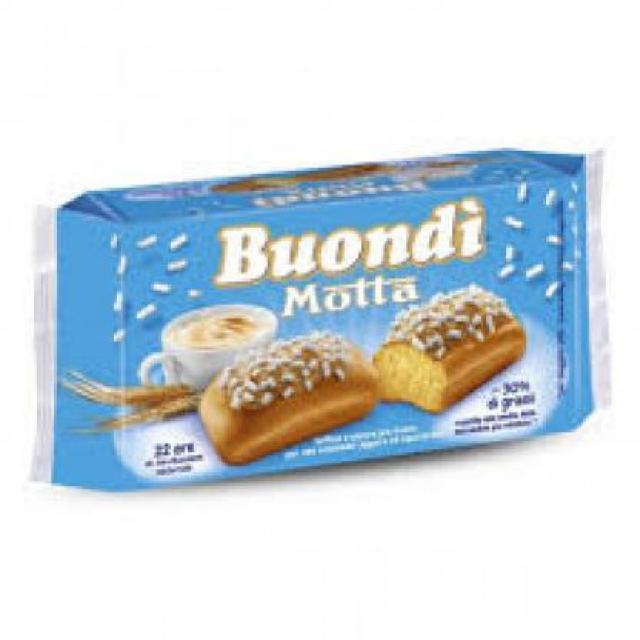Merendine: (17, 148, 626, 492)
